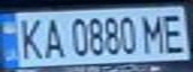0: (118, 12, 139, 55), (66, 15, 87, 57)
8: (84, 14, 106, 57), (103, 14, 124, 56)
A: (39, 15, 66, 60)
E: (157, 10, 190, 54)
K: (12, 14, 45, 61)
M: (139, 11, 169, 55)
